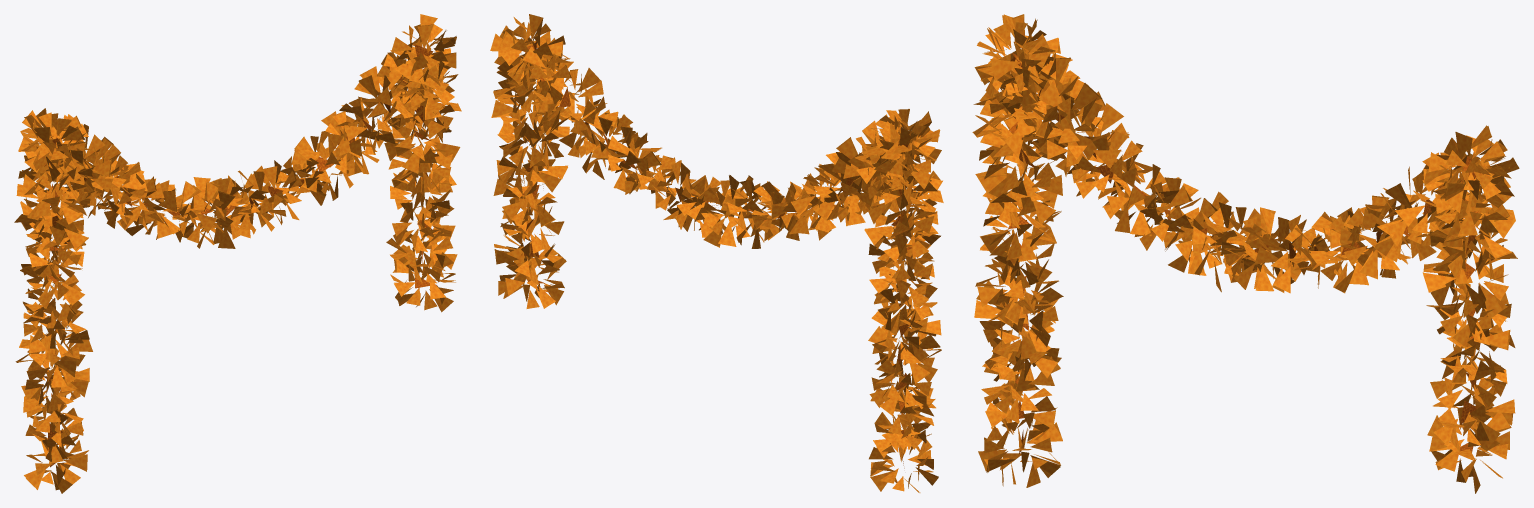
The model's file is guirnalda_medio.obj.
3 renders of one model, left to right at view 1: azimuth 30°, elevation 25°; view 2: azimuth 150°, elevation 25°; view 3: azimuth 330°, elevation 25°, orthographic. The views are drawn at different scales.
Parts seen in each view (by area): view 1: Cadena_Colgada_1, Cadena_Tira_1, Cadena_Tira_2; view 2: Cadena_Colgada_1, Cadena_Tira_1, Cadena_Tira_2; view 3: Cadena_Colgada_1, Cadena_Tira_1, Cadena_Tira_2.
Part boxes in pixels (left/top/right/bottom): Cadena_Colgada_1: left=20, top=25, right=450, bottom=248; Cadena_Tira_1: left=14, top=108, right=92, bottom=493; Cadena_Tira_2: left=384, top=14, right=461, bottom=312; Cadena_Colgada_1: left=498, top=22, right=940, bottom=248; Cadena_Tira_1: left=864, top=113, right=943, bottom=492; Cadena_Tira_2: left=490, top=14, right=569, bottom=308; Cadena_Colgada_1: left=977, top=14, right=1509, bottom=293; Cadena_Tira_1: left=972, top=14, right=1068, bottom=487; Cadena_Tira_2: left=1422, top=125, right=1519, bottom=493.
Size of the model in its own units: 3.55 by 2.94 by 0.5688.
2 materials, 2 textured.
